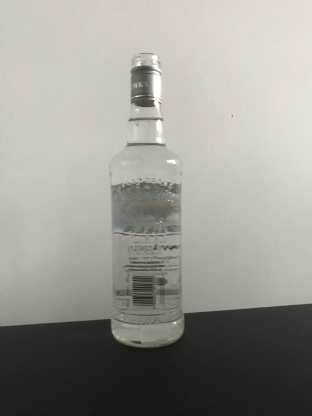nakretka: (128, 51, 164, 107)
